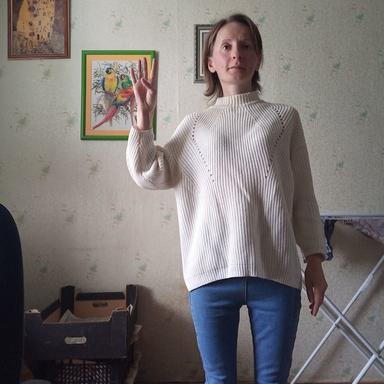four: (127, 56, 163, 115)
